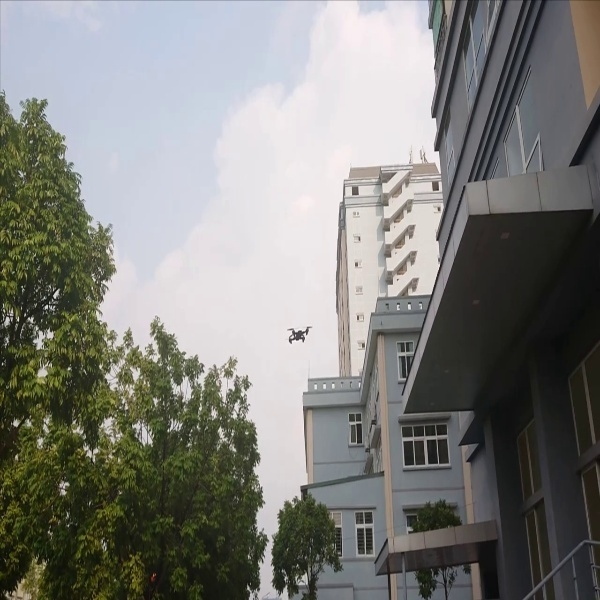drone: (274, 320, 319, 350)
